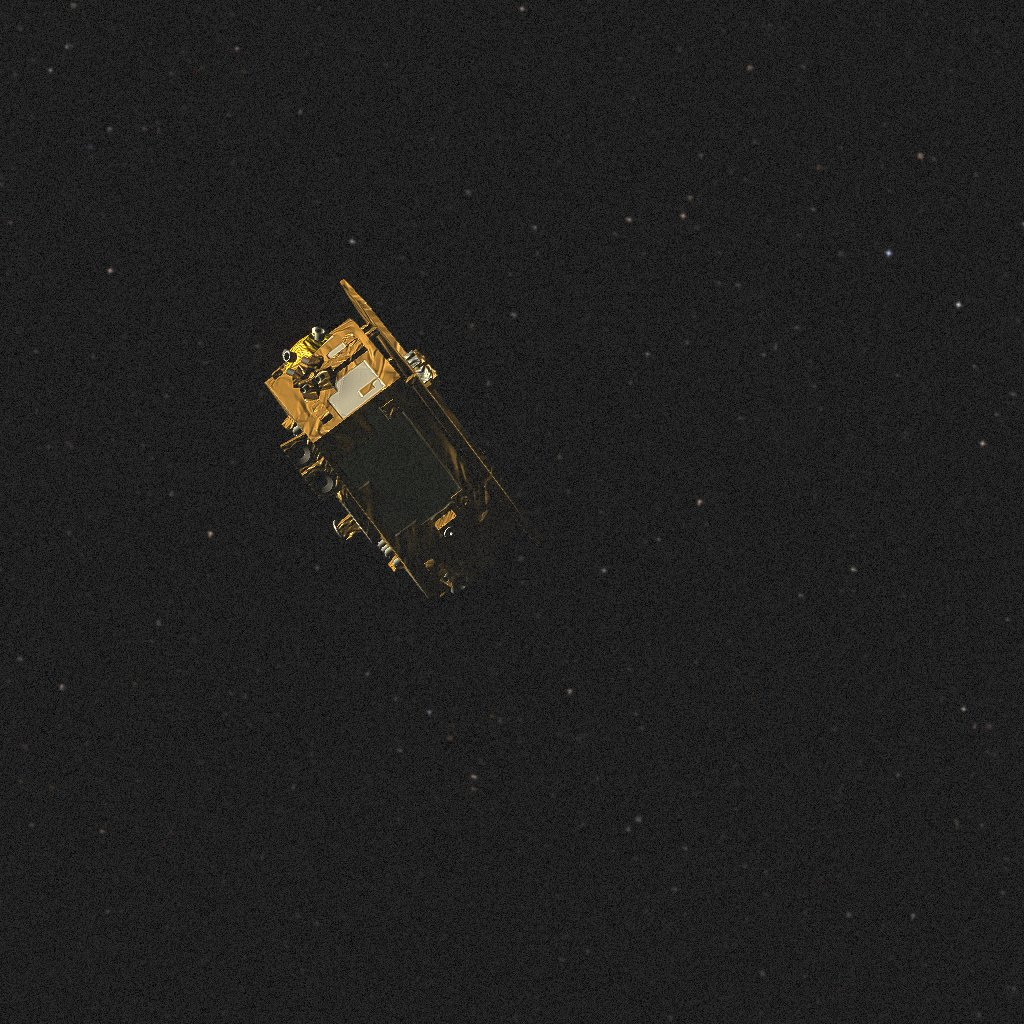lisa_pathfinder: (255, 283, 502, 592)
